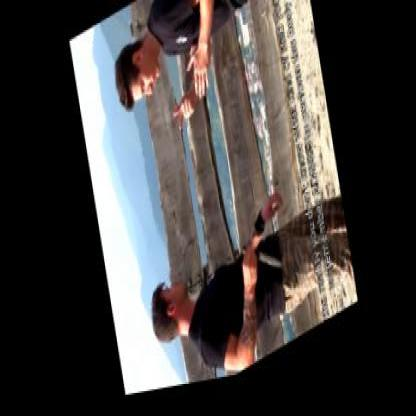knife: (237, 234, 282, 301)
